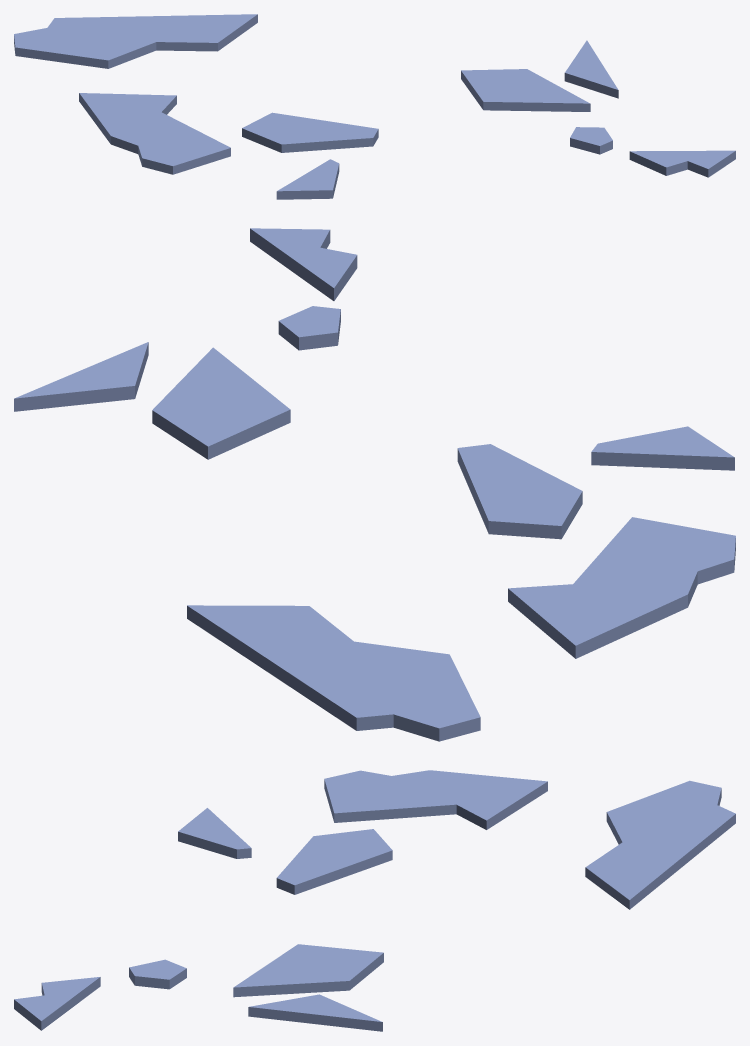
The model's file is floor-broken-glass.fbx.
3 renders of one model, top to bottom at view 1: azimuth 30°, elevation 25°; view 2: azimuth 150°, elevation 25°; view 3: azimuth 270°, elevation 25°, orthographic. The views are drawn at different scales.
Parts seen in each view (by area): view 1: glasses; view 2: glasses; view 3: glasses.
Boxes of the visible parts, x1,y1,x2,y2 form: glasses: (14, 14, 735, 199); glasses: (14, 228, 735, 741); glasses: (14, 770, 735, 1031).
Bounding box in the file's own units: 160 × 2.86 × 193.
